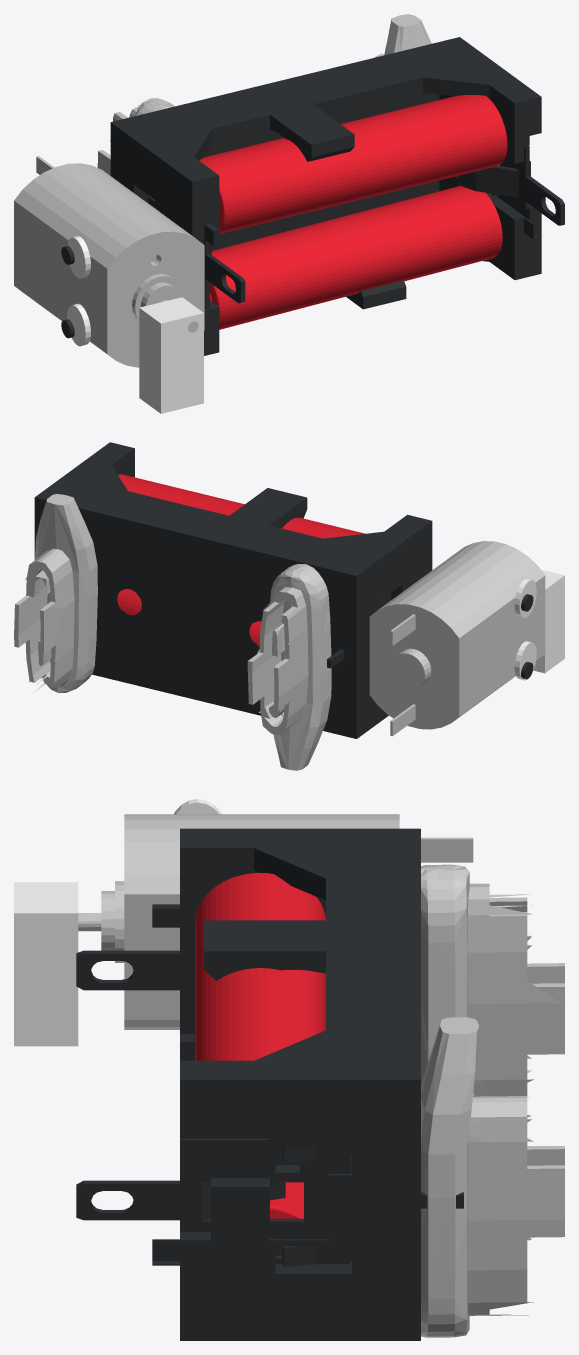
Rendered from dualBrushBot.obj.
3 views of the same model, one above another, from view 1: azimuth 30°, elevation 25°; view 2: azimuth 150°, elevation 25°; view 3: azimuth 270°, elevation 25° (orthographic). The views are drawn at different scales.
Parts seen in each view (by area): view 1: group_0_2829873, group_0_15277357, group_0_6383466, group_0_16448250, group_0_3356795; view 2: group_0_2829873, group_0_3356795, group_0_6383466, group_0_15277357, group_0_16448250; view 3: group_0_2829873, group_0_3356795, group_0_15277357, group_0_6383466, group_0_16448250.
Boxes of the visible parts, x1,y1,x2,y2 form: group_0_2829873: [61, 37, 564, 355]; group_0_15277357: [199, 95, 507, 329]; group_0_6383466: [14, 156, 204, 367]; group_0_16448250: [67, 236, 203, 413]; group_0_3356795: [97, 14, 431, 175]; group_0_2829873: [34, 442, 533, 738]; group_0_3356795: [14, 494, 331, 770]; group_0_6383466: [369, 541, 545, 736]; group_0_15277357: [117, 474, 364, 646]; group_0_16448250: [514, 569, 564, 680]; group_0_2829873: [76, 828, 463, 1340]; group_0_3356795: [421, 864, 564, 1337]; group_0_15277357: [195, 873, 325, 1218]; group_0_6383466: [78, 814, 473, 1029]; group_0_16448250: [14, 799, 220, 1046].
Bounding box in the file's own units: 86.3 × 40.01 × 60.
